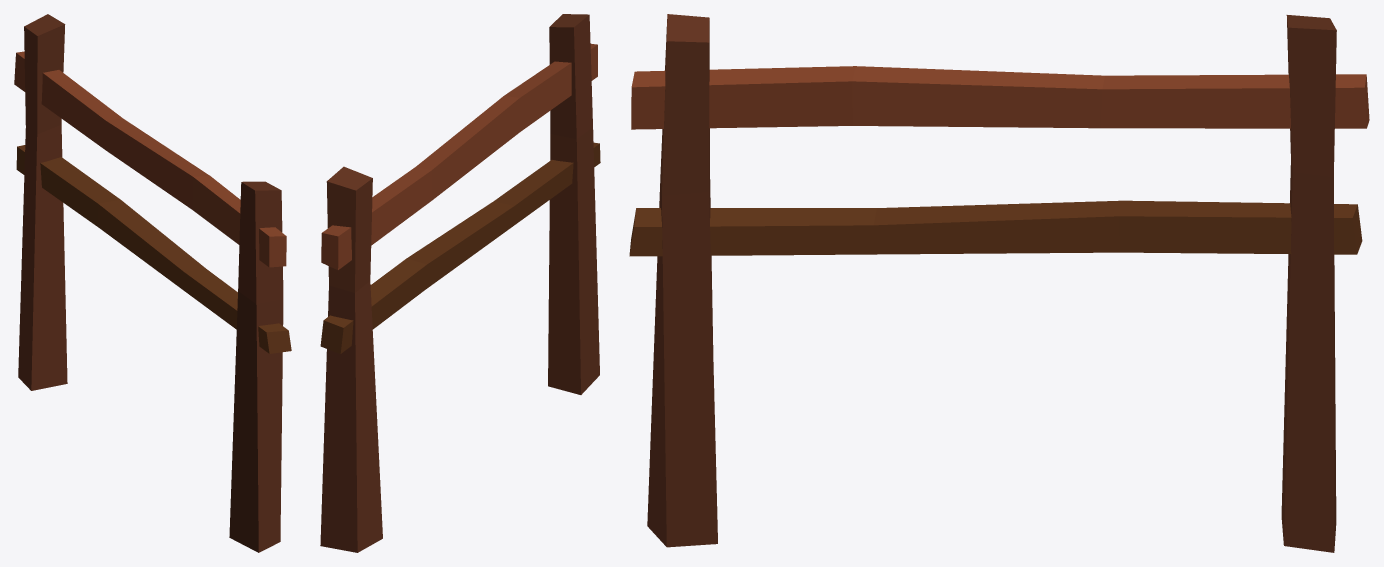
Rendered from Fence.obj.
The picture shows the model from 3 angles, left to right: view 1: azimuth 30°, elevation 25°; view 2: azimuth 150°, elevation 25°; view 3: azimuth 270°, elevation 25°; orthographic projection. The views are drawn at different scales.
Parts seen in each view (by area): view 1: Plane.004_Plane.005, Plane.005_Plane.006, Plane.007_Plane.008, Plane.006_Plane.007; view 2: Plane.005_Plane.006, Plane.004_Plane.005, Plane.007_Plane.008, Plane.006_Plane.007; view 3: Plane.007_Plane.008, Plane.006_Plane.007, Plane.004_Plane.005, Plane.005_Plane.006.
Boxes of the visible parts, x1,y1,x2,y2 form: Plane.004_Plane.005: (229,181,283,552); Plane.005_Plane.006: (18,14,67,390); Plane.007_Plane.008: (14,51,286,267); Plane.006_Plane.007: (16,145,291,353); Plane.005_Plane.006: (320,166,382,552); Plane.004_Plane.005: (548,14,599,394); Plane.007_Plane.008: (321,43,597,269); Plane.006_Plane.007: (320,142,600,353); Plane.007_Plane.008: (631,66,1369,129); Plane.006_Plane.007: (629,200,1362,256); Plane.004_Plane.005: (647,14,717,547); Plane.005_Plane.006: (1281,15,1336,552).
Bounding box in the file's own units: 0.2377 × 1.91 × 2.46.
